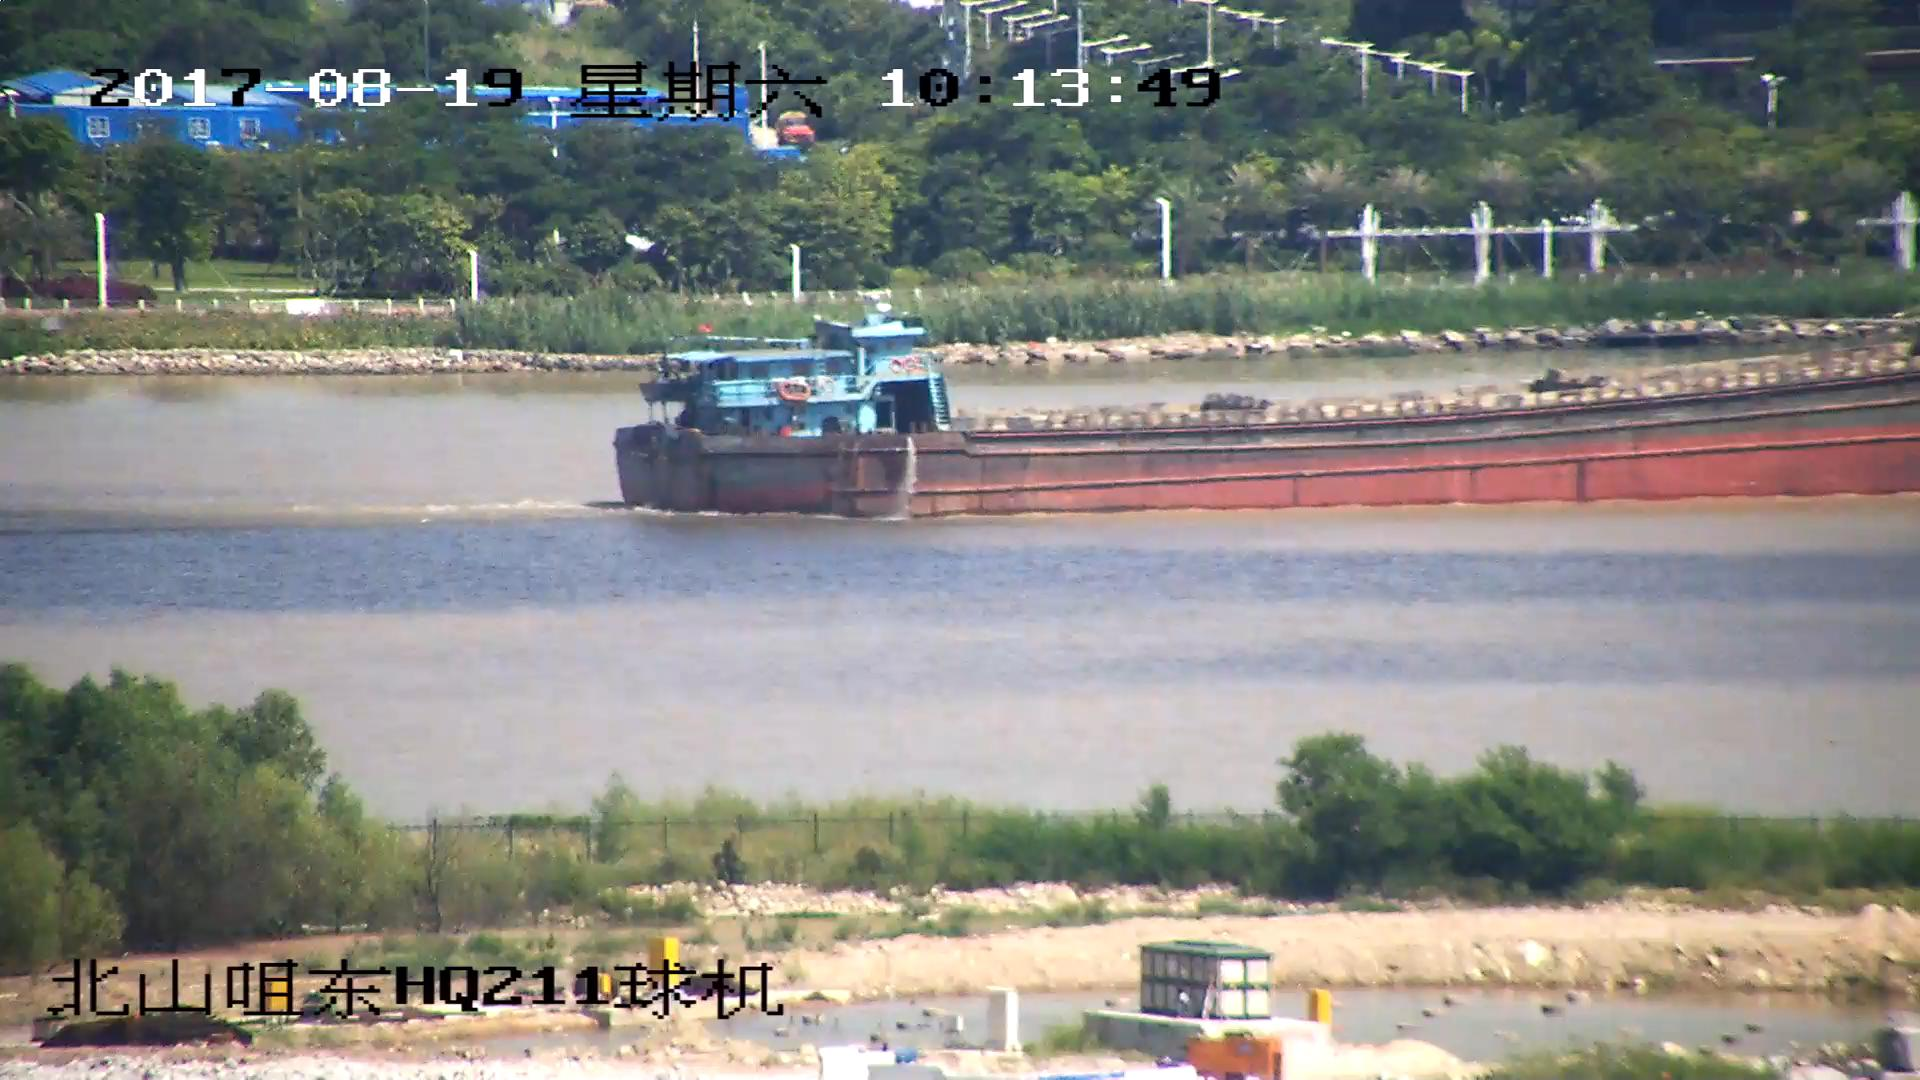bulk cargo carrier: (609, 309, 1920, 518)
